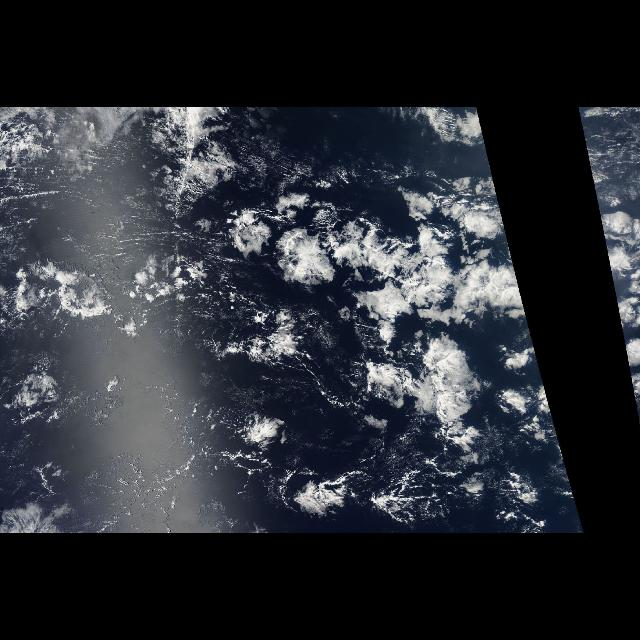Flower: (196, 161, 566, 517), (590, 169, 628, 373)
Sugar: (210, 175, 548, 401), (592, 175, 640, 401)
